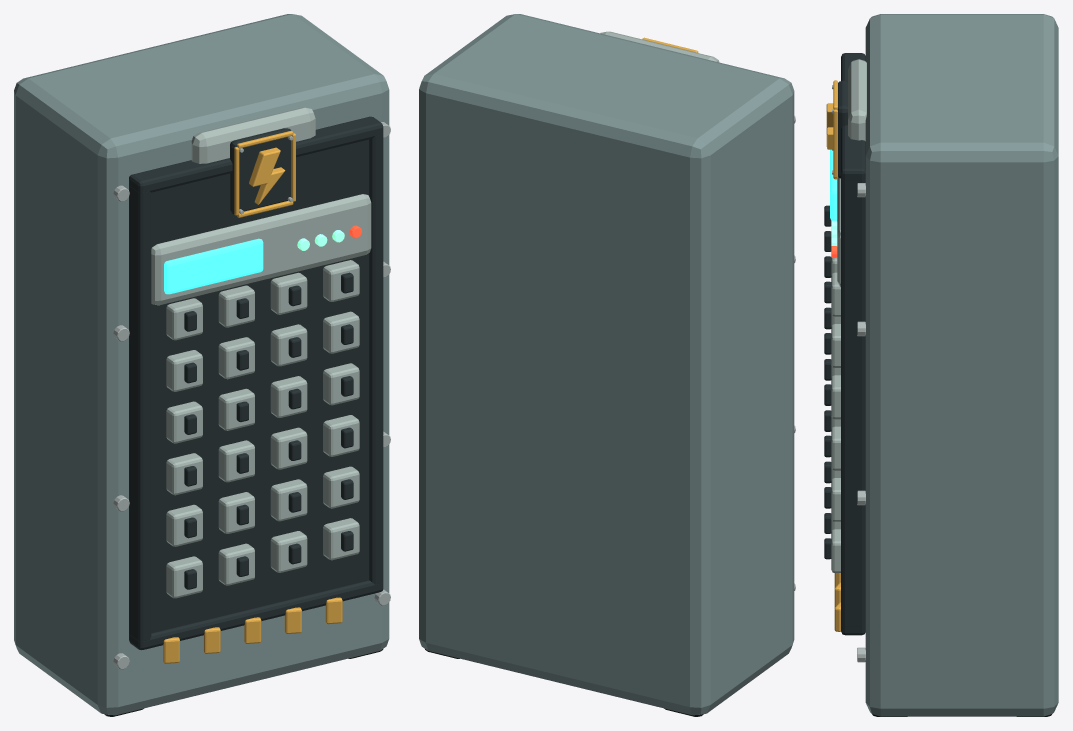
The model's file is Armoire de distribution électrique.glb.
The picture shows the model from 3 angles, left to right: view 1: azimuth 30°, elevation 25°; view 2: azimuth 150°, elevation 25°; view 3: azimuth 270°, elevation 25°; orthographic projection.
Parts seen in each view (by area): view 1: POWER_Main_Cabinet, POWER_Breaker_Bay_Panel, POWER_Breaker_Bay_Rail_Left, POWER_Control_Band, POWER_Breaker_Bay_Rail_Right, POWER_Breaker_Bay_Rail_Top, POWER_Master_Display, POWER_Breaker_Bay_Rail_Bottom, POWER_Dedicated_Warning_Plate, POWER_Electrical_Recess, POWER_Breaker_5_3, POWER_Breaker_2_3 (+23 smaller); view 2: POWER_Main_Cabinet; view 3: POWER_Main_Cabinet, POWER_Breaker_Bay_Rail_Right, POWER_Dedicated_Warning_Plate, POWER_Breaker_Bay_Rail_Top, POWER_Electrical_Recess, POWER_Master_Display, POWER_Breaker_3_4, POWER_Breaker_4_4, POWER_Breaker_1_4, POWER_Breaker_2_4, POWER_Breaker_5_4, POWER_Control_Band (+1 smaller).
Part boxes in pixels (x1,y1,x2,y2): POWER_Main_Cabinet: (14, 14, 389, 715); POWER_Breaker_Bay_Panel: (151, 139, 369, 633); POWER_Breaker_Bay_Rail_Left: (129, 185, 151, 641); POWER_Control_Band: (151, 194, 371, 305); POWER_Breaker_Bay_Rail_Right: (369, 134, 383, 584); POWER_Breaker_Bay_Rail_Top: (129, 116, 383, 192); POWER_Master_Display: (164, 238, 263, 294); POWER_Breaker_Bay_Rail_Bottom: (129, 580, 383, 650); POWER_Dedicated_Warning_Plate: (191, 107, 315, 163); POWER_Electrical_Recess: (230, 128, 291, 214); POWER_Breaker_5_3: (270, 324, 307, 366); POWER_Breaker_2_3: (270, 479, 307, 521); POWER_Main_Cabinet: (419, 14, 794, 715); POWER_Main_Cabinet: (865, 14, 1058, 716); POWER_Breaker_Bay_Rail_Right: (841, 179, 865, 626); POWER_Dedicated_Warning_Plate: (848, 59, 866, 141); POWER_Breaker_Bay_Rail_Top: (841, 53, 865, 180); POWER_Electrical_Recess: (838, 80, 847, 178); POWER_Master_Display: (830, 149, 837, 220); POWER_Breaker_3_4: (831, 426, 840, 470); POWER_Breaker_4_4: (831, 375, 840, 419); POWER_Breaker_1_4: (831, 529, 840, 572); POWER_Breaker_2_4: (831, 478, 840, 521); POWER_Breaker_5_4: (831, 324, 840, 367); POWER_Control_Band: (837, 177, 840, 286).
Size of the model in its own units: 1 by 1.9 by 0.704.
